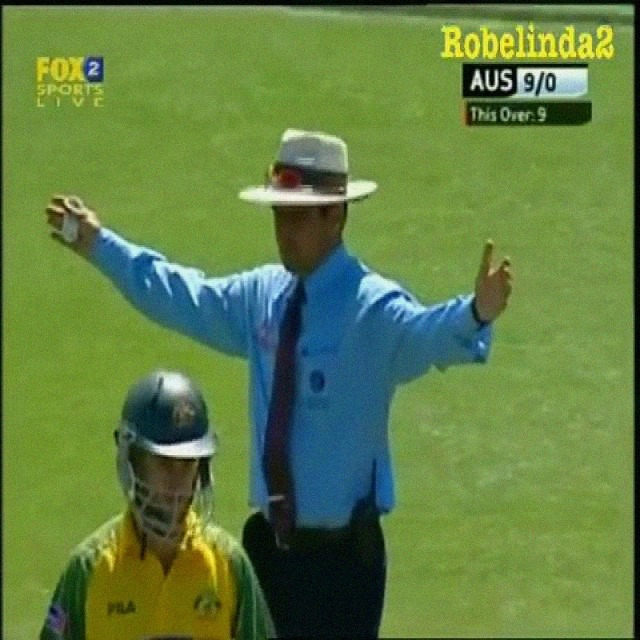Wide: (39, 121, 520, 640)
